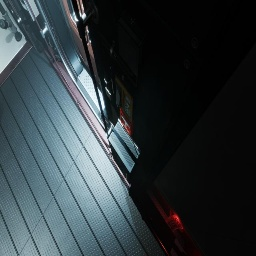EmergencyPhone ,: (110, 66, 135, 123)
FireAlarm ,: (120, 107, 134, 136)
SafetySwitchPanel ,: (19, 0, 39, 22)
